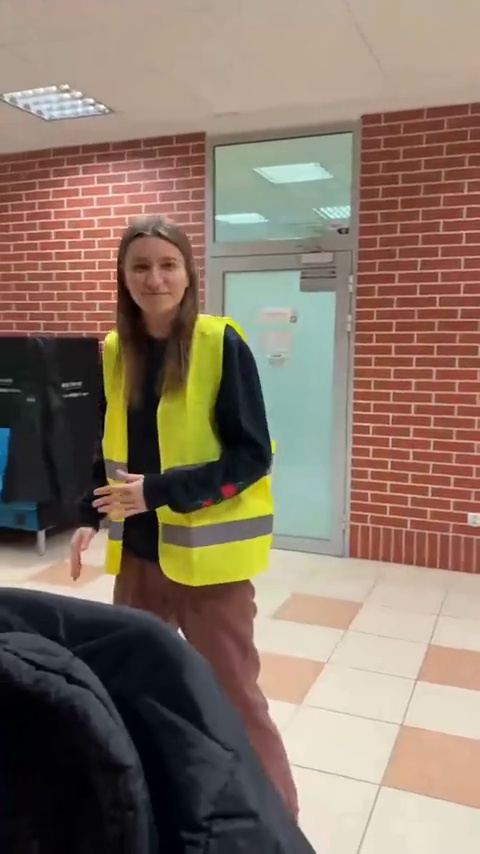vest: (74, 214, 293, 643)
